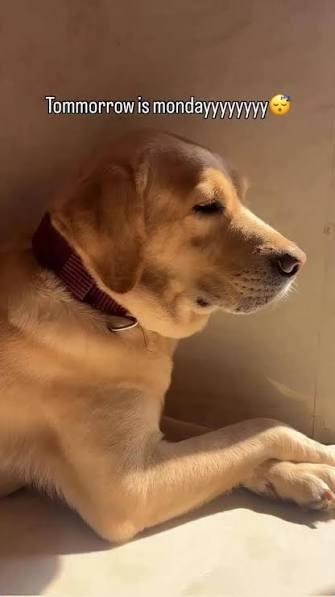adult_dog: (0, 129, 335, 549)
